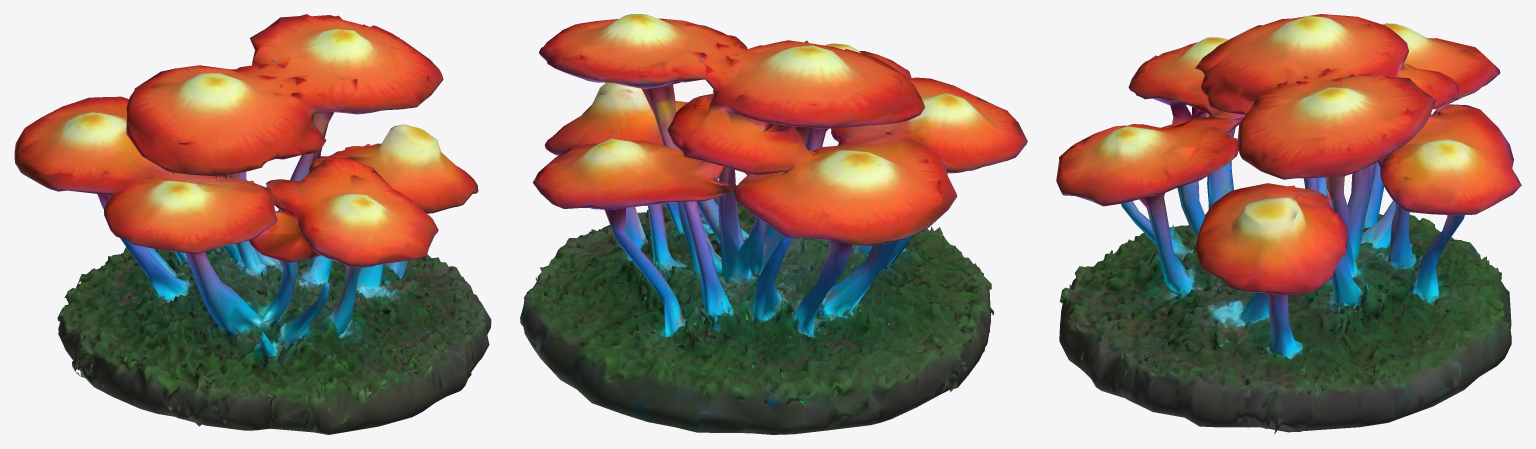
The model's file is apex-flora-hongo.glb.
3 renders of one model, left to right at view 1: azimuth 30°, elevation 25°; view 2: azimuth 150°, elevation 25°; view 3: azimuth 270°, elevation 25°, orthographic. The views are drawn at different scales.
Size of the model in its own units: 2 by 1.39 by 1.96.
1 material, 1 textured.
